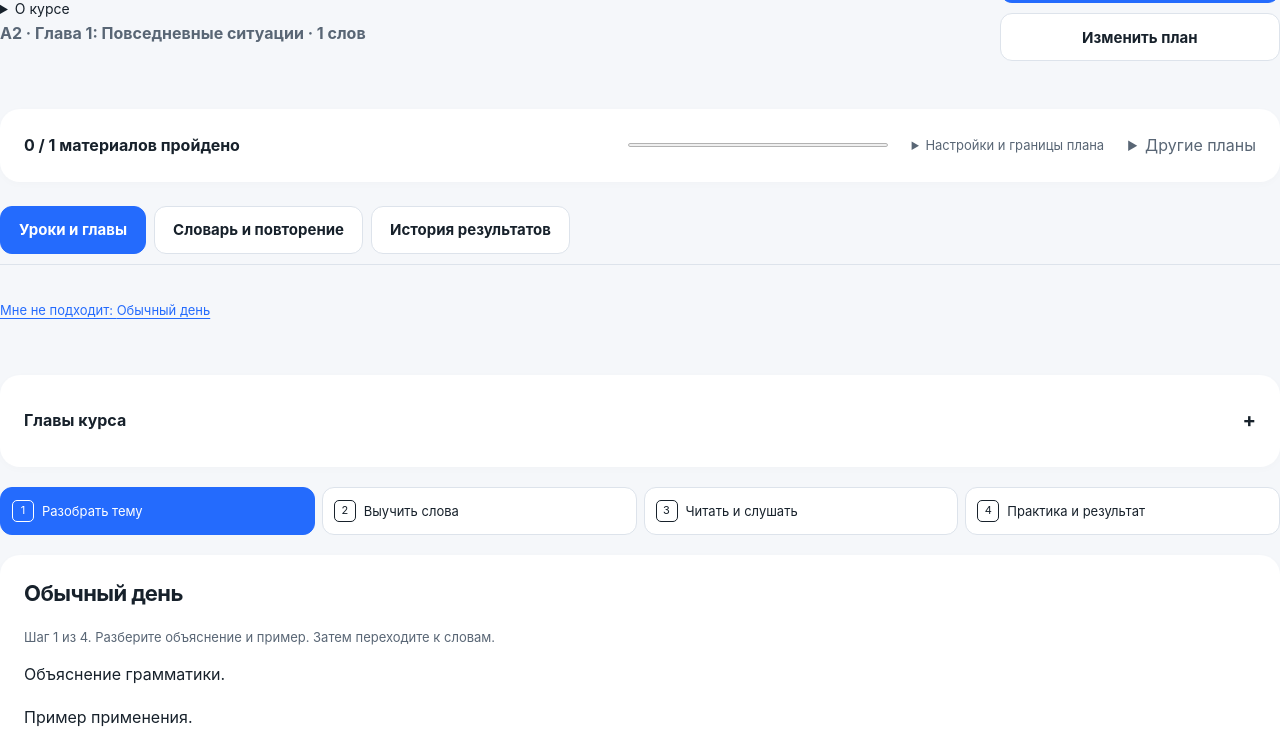
Test: chapter dictionary opens cards from the selected lesson and preserves review separately
This screenshot has width=1280, height=737.
Click the button "Словарь и повторение": (259, 230) [154,206,363,254]
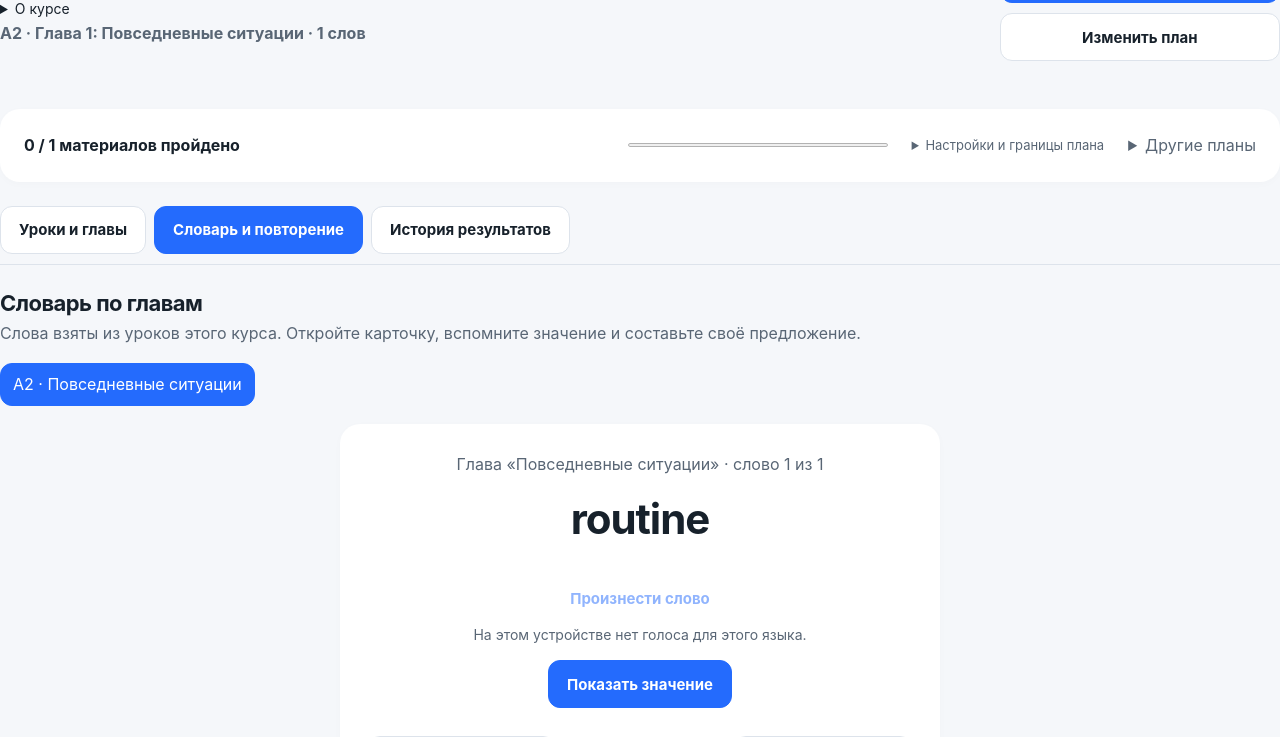
Expected: the text "распорядок" is not shown
Result: the heading "Словарь по главам" is shown at [0,290,202,316]
Result: the heading "routine" is shown at [571,493,709,544]
Click the button "Показать значение": (640, 684) [548,660,732,708]
(page scrolled)
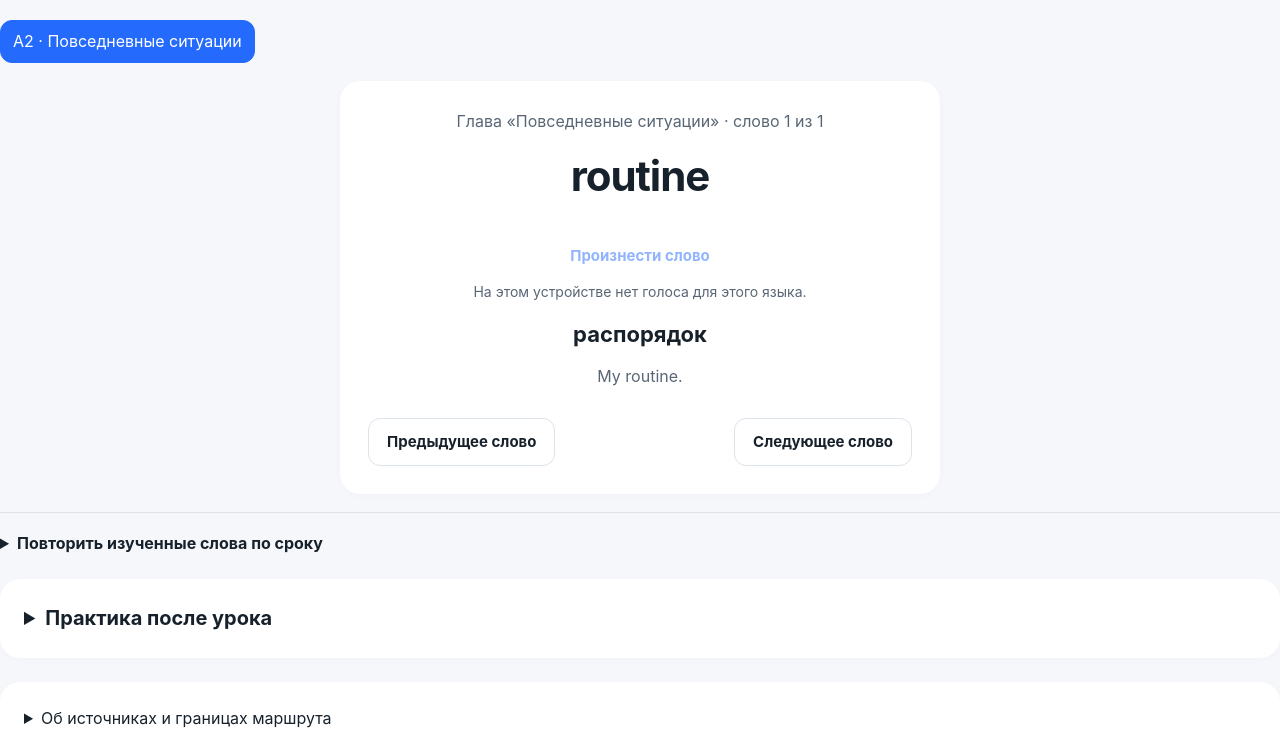
Result: the heading "Повторить изученные слова по сроку" is shown at [17,533,323,553]
Result: the text "распорядок" is shown at [573,321,707,347]
